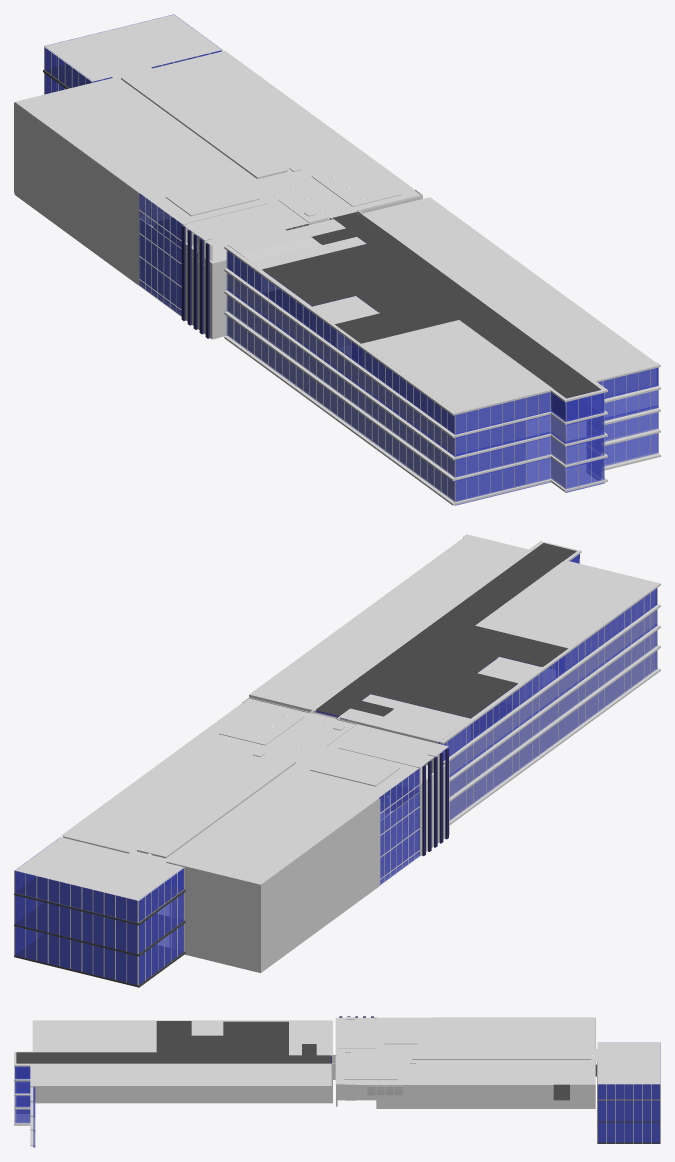
Rendered from pas.fbx.
The picture shows the model from 3 angles, top to bottom: view 1: azimuth 30°, elevation 25°; view 2: azimuth 150°, elevation 25°; view 3: azimuth 270°, elevation 25°; orthographic projection. The views are drawn at different scales.
Visible parts, largest first — view 1: Plane.013, Cube.046, Plane.016, Cube.048, Cube.041, Cube.047, dotdot, Cube.089, Cube.083, Cube.060, Cube.077, Cube.061 (+16 smaller); view 2: Plane.013, Cube.041, Plane.016, Cube.048, Cube.046, Plane.011, dotdot, Cube.027, Cube.047, Cube.089, Cube.083, Cube.060 (+20 smaller); view 3: Plane.013, Cube.048, Plane.016, Cube.041, Cube.047, Cube.028, Plane.011, Cube.046, Cube.071, Cube.104, Cube.040, Cube.061 (+10 smaller).
Part boxes in pixels (x1,y1,x2,y2): Plane.013: (44, 14, 422, 246); Cube.046: (228, 219, 524, 500); Plane.016: (262, 214, 600, 397); Cube.048: (362, 197, 655, 396); Cube.041: (14, 77, 236, 316); Cube.047: (362, 320, 552, 433); dotdot: (14, 103, 138, 283); Cube.089: (227, 316, 658, 505); Cube.083: (227, 289, 658, 481); Cube.060: (227, 251, 658, 438); Cube.077: (227, 268, 658, 459); Cube.061: (224, 245, 660, 415); Plane.013: (15, 698, 448, 900); Cube.041: (166, 775, 419, 972); Plane.016: (316, 543, 576, 718); Cube.048: (249, 537, 528, 710); Cube.046: (339, 611, 654, 819); Plane.011: (14, 877, 185, 987); dotdot: (261, 798, 380, 970); Cube.027: (15, 870, 137, 984); Cube.047: (475, 561, 654, 669); Cube.089: (449, 651, 656, 820); Cube.083: (449, 624, 656, 796); Cube.060: (439, 554, 656, 760); Plane.013: (335, 1017, 660, 1084); Cube.048: (35, 1063, 331, 1101); Plane.016: (16, 1021, 330, 1063); Cube.041: (376, 1017, 595, 1108); Cube.047: (35, 1021, 156, 1052); Cube.028: (598, 1084, 659, 1142); Plane.011: (597, 1062, 659, 1143); Cube.046: (35, 1021, 332, 1103); Cube.071: (450, 1084, 553, 1100); Cube.104: (356, 1084, 451, 1100); Cube.040: (570, 1061, 593, 1100); Cube.061: (14, 1020, 332, 1087).
Bounding box in the file's own units: 3942 × 1649 × 15511.
